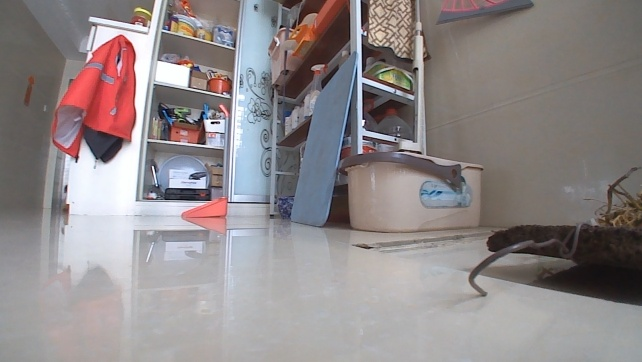wire: (464, 220, 591, 297)
